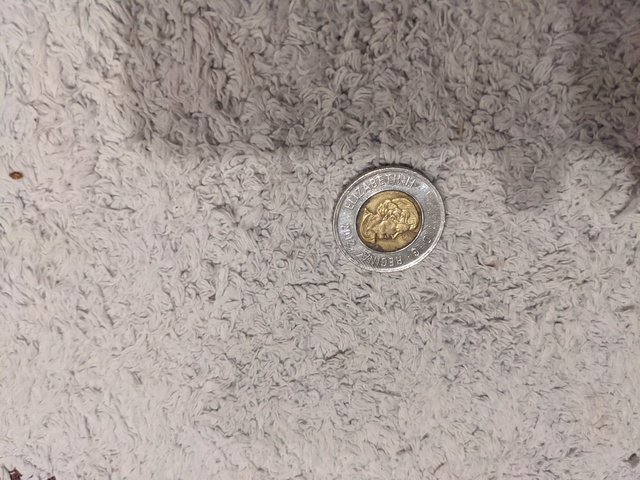twonie: (329, 159, 453, 278)
